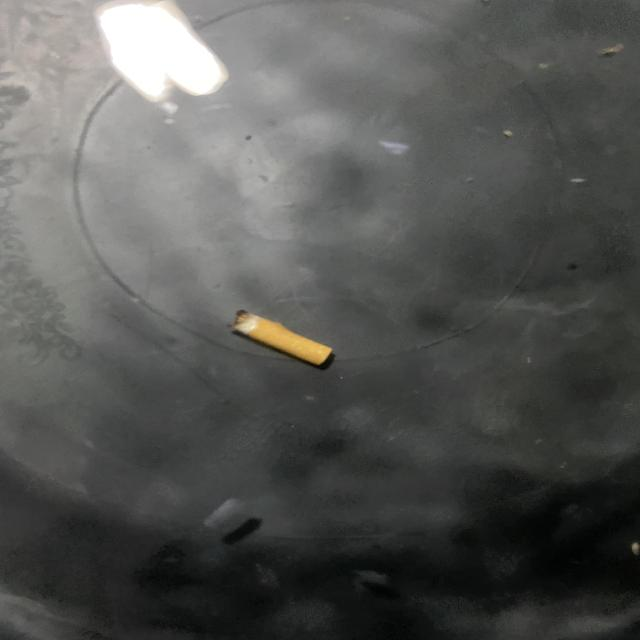Cigarette Filter: (223, 300, 337, 370)
